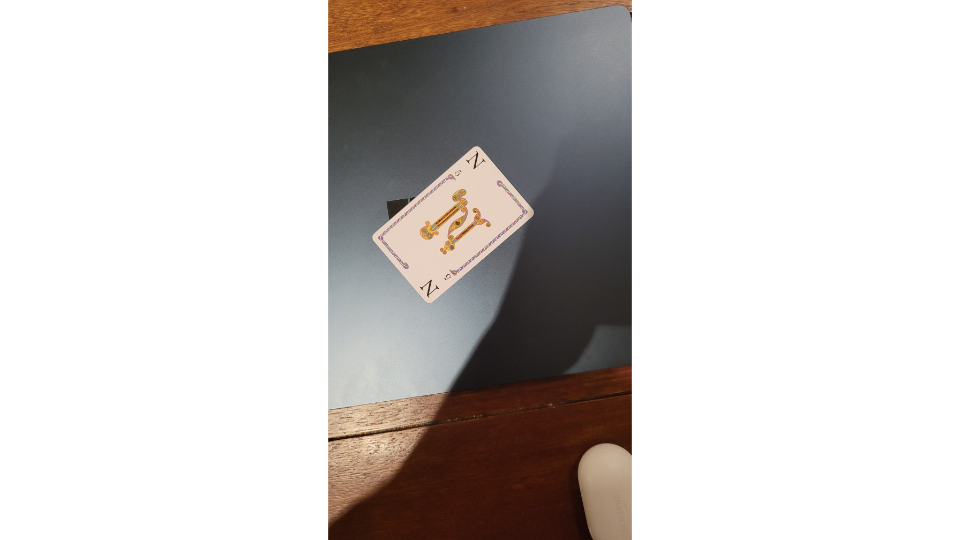N: (370, 143, 537, 306)
